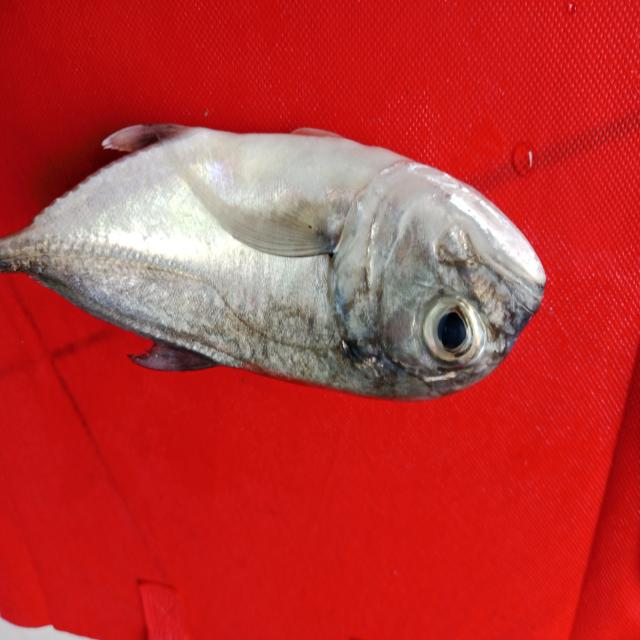ikan: (8, 73, 558, 425)
